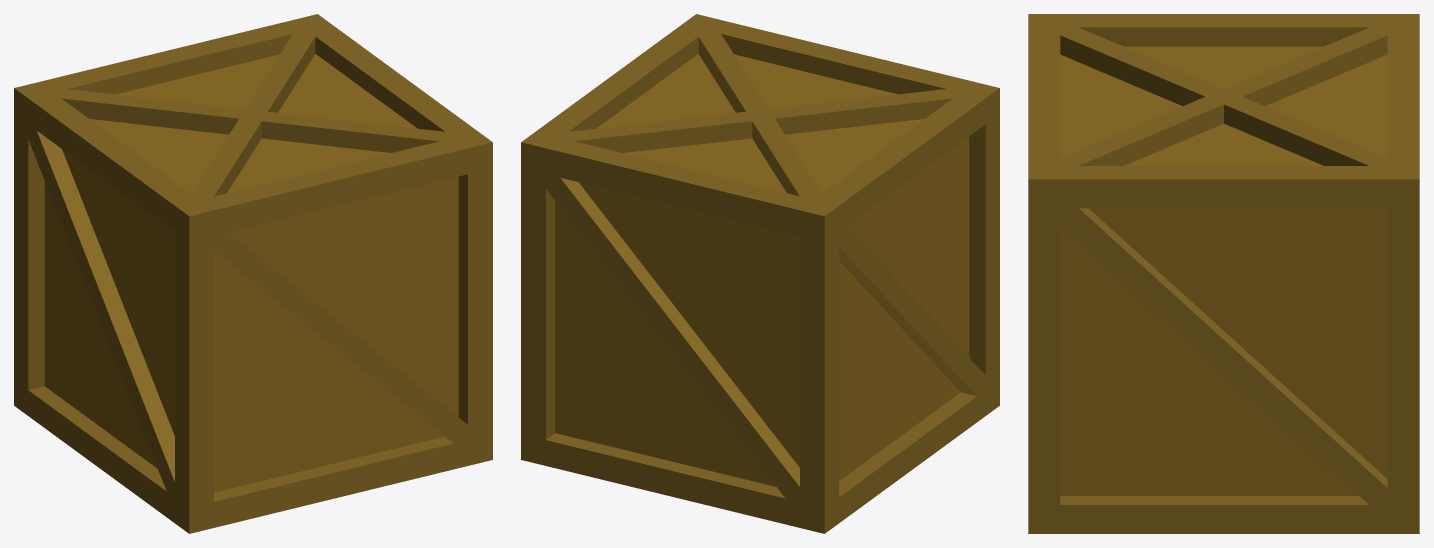
File: Caisse.fbx
The picture shows the model from 3 angles, left to right: view 1: azimuth 30°, elevation 25°; view 2: azimuth 150°, elevation 25°; view 3: azimuth 270°, elevation 25°; orthographic projection. The views are drawn at different scales.
Parts seen in each view (by area): view 1: Cube, Cube.002, Cube.005, Cube.003, Cube.006; view 2: Cube, Cube.001, Cube.006, Cube.002, Cube.005; view 3: Cube, Cube.004, Cube.005, Cube.006.
Boxes of the visible parts, box(x1,y1,x2,y2) form: Cube: box(14, 14, 492, 533); Cube.002: box(28, 124, 180, 506); Cube.005: box(45, 87, 461, 152); Cube.003: box(204, 224, 467, 443); Cube.006: box(187, 27, 319, 203); Cube: box(521, 14, 999, 533); Cube.001: box(545, 174, 809, 511); Cube.006: box(552, 87, 968, 152); Cube.002: box(839, 226, 991, 402); Cube.005: box(694, 27, 826, 203); Cube: box(1028, 14, 1419, 533); Cube.004: box(1048, 200, 1400, 516); Cube.005: box(1047, 22, 1400, 171); Cube.006: box(1047, 22, 1400, 171).
Size of the model in its own units: 600 by 600 by 600.
